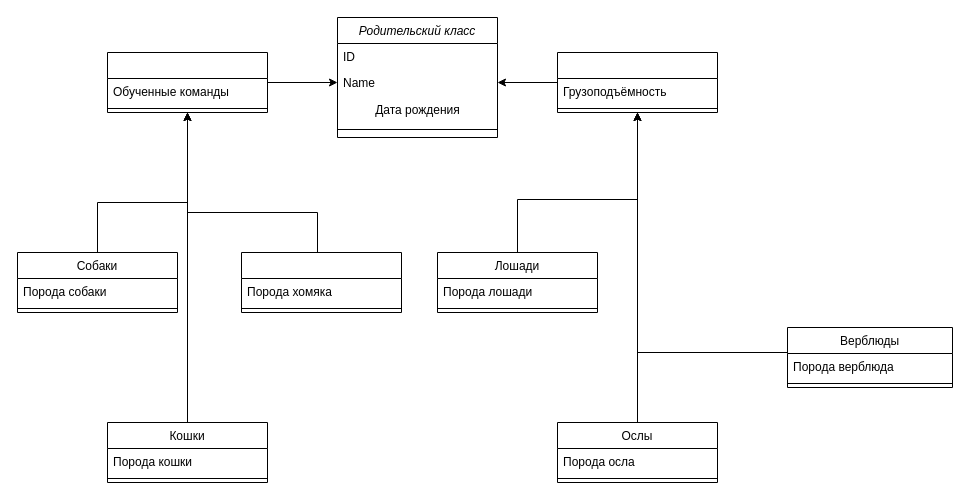
This 970x500 diagram has some shape labels left out. Here are the shapes that lost their labels. From the top down, the box of each, then its label:
(106, 52, 268, 112): Домашние животные
(556, 52, 718, 112): Вьючные животные
(240, 252, 402, 312): Хомяки
